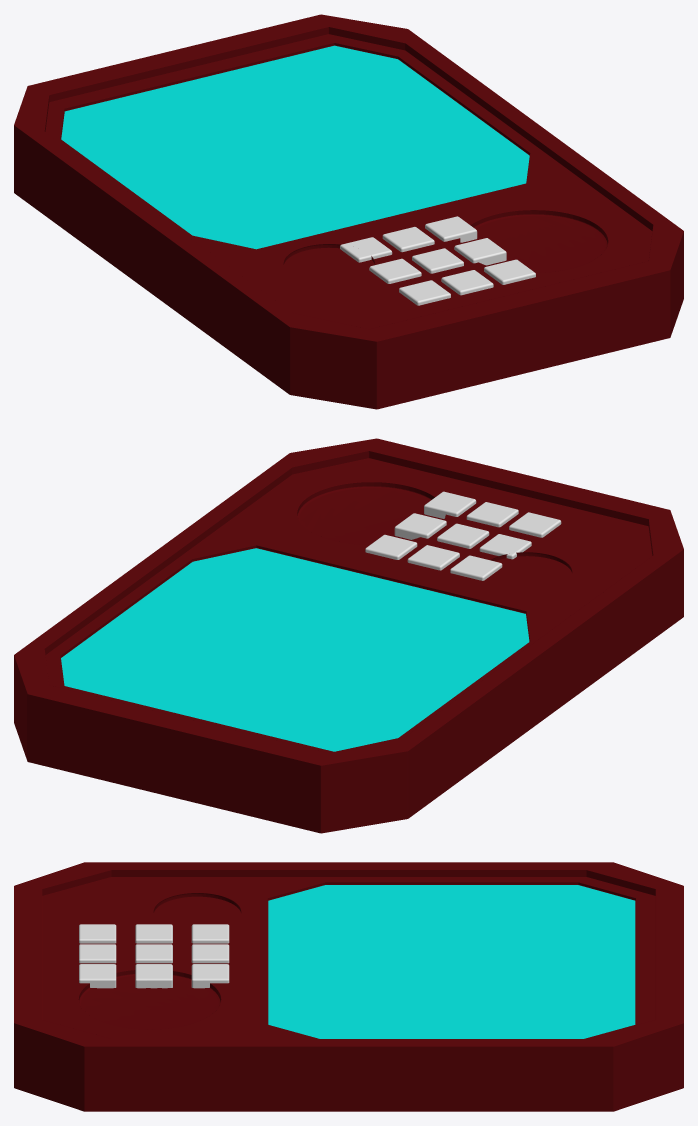
File: Data_Slate_06.fbx
3 views of the same model, one above another, from view 1: azimuth 30°, elevation 25°; view 2: azimuth 150°, elevation 25°; view 3: azimuth 270°, elevation 25° (orthographic). The views are drawn at different scales.
Parts seen in each view (by area): view 1: SlateBase, Keypad; view 2: SlateBase, Keypad; view 3: SlateBase, Keypad.
Part boxes in pixels (x1=…): SlateBase: x1=14, y1=14, x2=683, y2=409; Keypad: x1=340, y1=216, x2=535, y2=305; SlateBase: x1=14, y1=438, x2=683, y2=833; Keypad: x1=365, y1=491, x2=561, y2=580; SlateBase: x1=14, y1=862, x2=683, y2=1111; Keypad: x1=79, y1=924, x2=229, y2=988.
Bounding box in the file's own units: 150 × 24.62 × 230.
